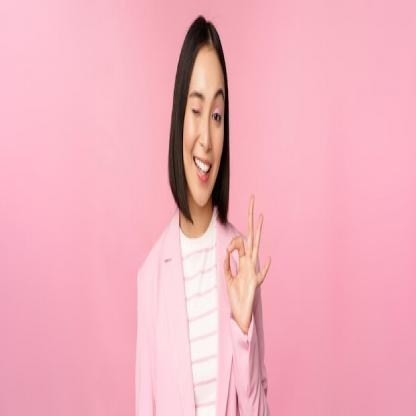ok: (223, 189, 274, 333)
